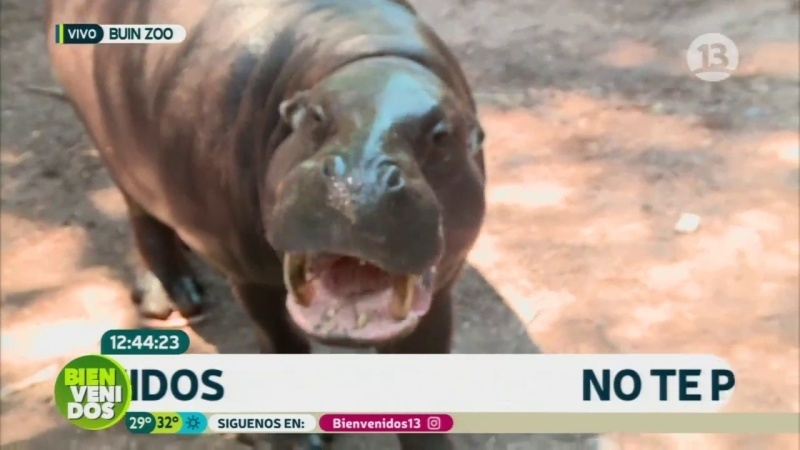hipopotamo: (38, 1, 524, 348)
